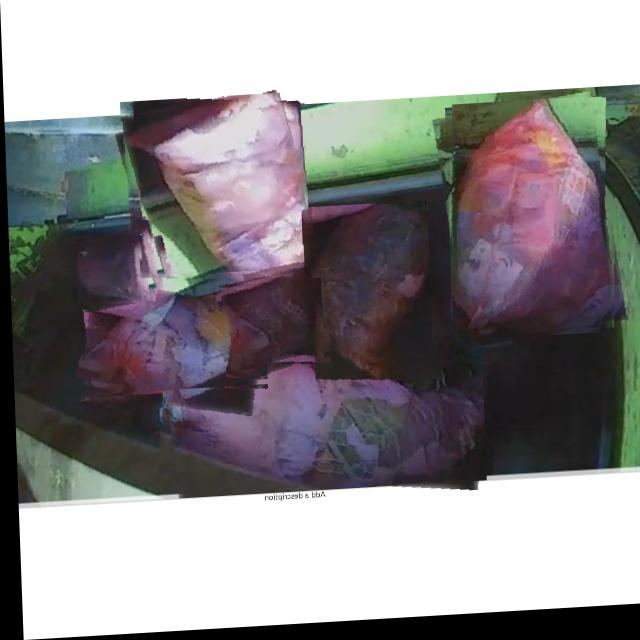other_trashbag: (163, 358, 481, 493), (454, 106, 613, 337), (121, 97, 307, 285), (303, 209, 426, 376), (80, 300, 262, 392), (218, 272, 312, 366), (75, 237, 138, 304)
